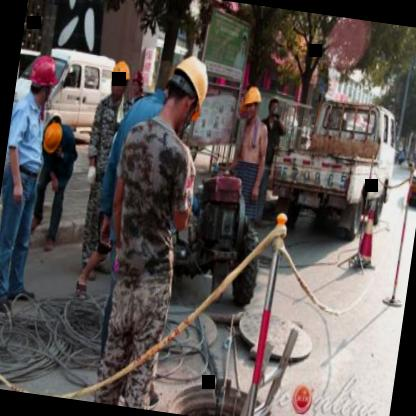helmet: (157, 46, 216, 136), (22, 48, 63, 110), (40, 118, 69, 165), (238, 82, 264, 127), (106, 57, 133, 100), (128, 63, 148, 97)
